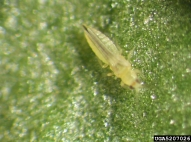Thrips: (80, 21, 151, 100)
